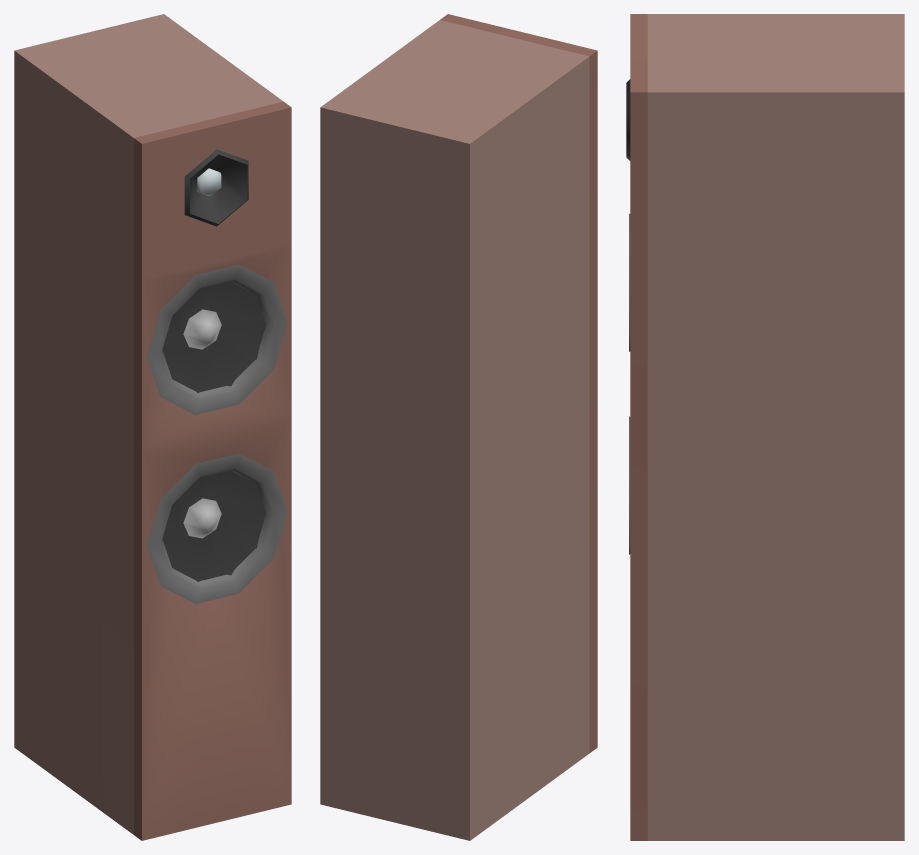
File: musical_instrument_016.glb
The picture shows the model from 3 angles, left to right: view 1: azimuth 30°, elevation 25°; view 2: azimuth 150°, elevation 25°; view 3: azimuth 270°, elevation 25°; orthographic projection. The views are drawn at different scales.
Visible parts, largest first — view 1: musical_instrument_016; view 2: musical_instrument_016; view 3: musical_instrument_016.
Part boxes in pixels (x1,y1,x2,y2): musical_instrument_016: (14, 14, 291, 840); musical_instrument_016: (320, 14, 597, 840); musical_instrument_016: (626, 14, 904, 840).
Size of the model in its own units: 0.2247 by 0.9993 by 0.3366.
Materials: 1 (1 with a texture image).
